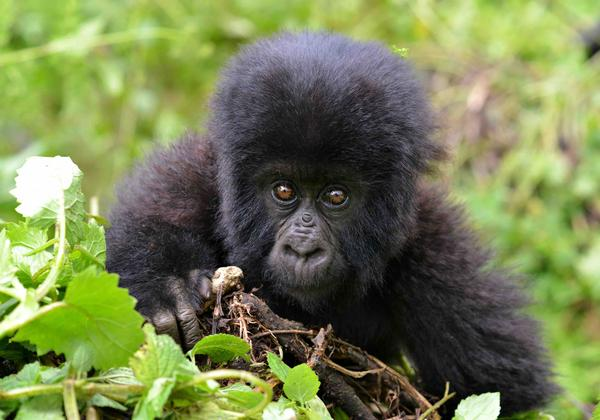Goriila: (116, 40, 525, 395)
